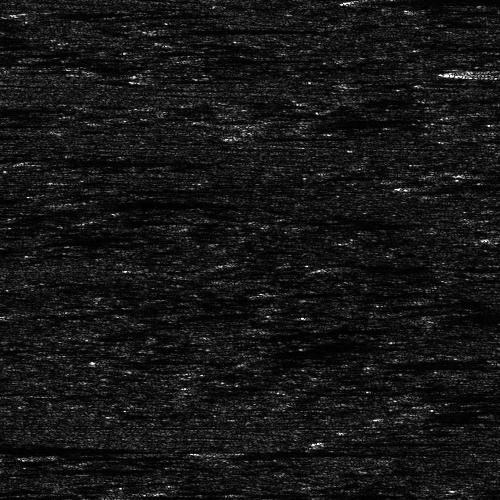rock: (0, 461, 80, 472), (436, 66, 500, 79), (0, 156, 85, 165), (268, 117, 351, 126), (387, 181, 460, 190), (61, 197, 114, 206), (348, 0, 401, 7), (105, 491, 168, 496), (175, 449, 238, 454), (457, 169, 498, 176), (126, 27, 179, 32), (23, 454, 76, 459), (474, 232, 500, 241), (331, 437, 342, 442)
shadow: (0, 435, 172, 456), (23, 461, 228, 472), (88, 197, 246, 206), (28, 156, 182, 165), (207, 449, 425, 454), (310, 117, 423, 126), (375, 0, 500, 7), (153, 27, 317, 32), (50, 454, 204, 459), (424, 181, 500, 190), (337, 437, 450, 442), (0, 99, 33, 116), (137, 491, 243, 496), (0, 196, 13, 203)
